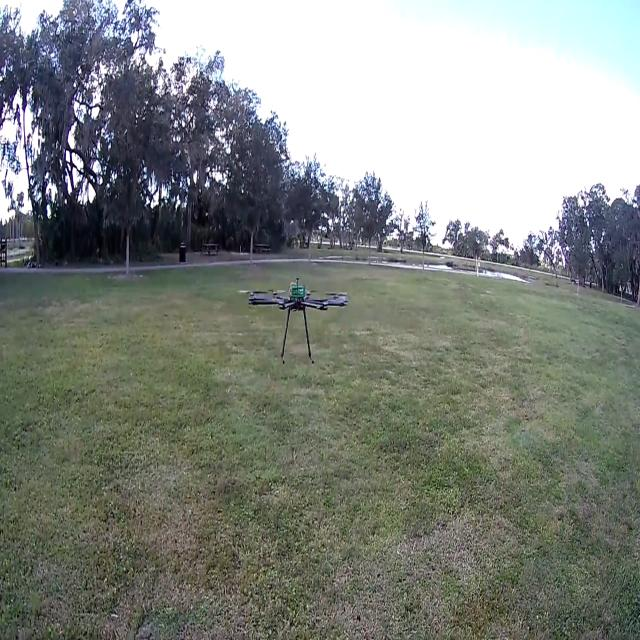drone: (238, 259, 359, 369)
